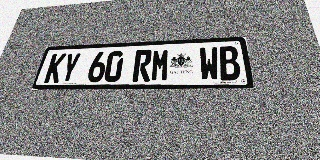0: (103, 51, 124, 82)
6: (86, 51, 108, 82)
B: (218, 46, 241, 80)
K: (43, 53, 67, 83)
M: (150, 49, 170, 81)
R: (132, 49, 152, 82)
W: (199, 47, 220, 81)
Y: (59, 53, 81, 83)
